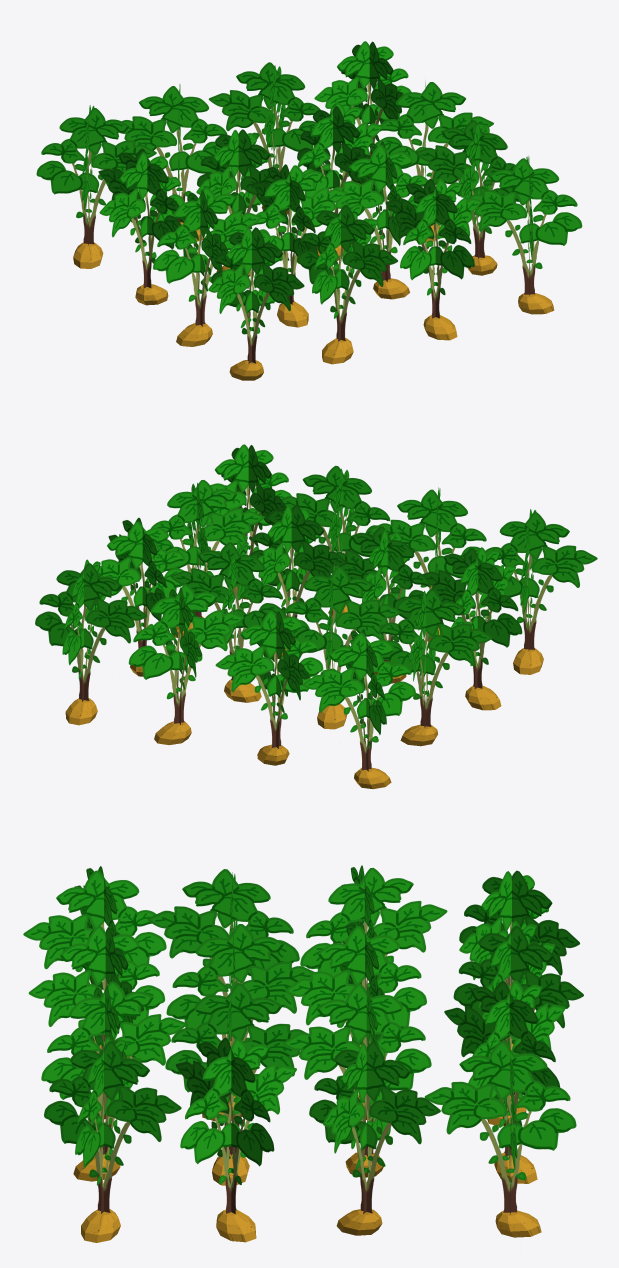
Rendered from potato-stage3.glb.
The picture shows the model from 3 angles, top to bottom: view 1: azimuth 30°, elevation 25°; view 2: azimuth 150°, elevation 25°; view 3: azimuth 270°, elevation 25°; orthographic projection. The views are drawn at different scales.
Parts seen in each view (by area): view 1: Potatoe_F3.001; view 2: Potatoe_F3.001; view 3: Potatoe_F3.001.
Boxes of the visible parts, x1,y1,x2,y2 form: Potatoe_F3.001: [36, 41, 582, 380]; Potatoe_F3.001: [35, 444, 597, 789]; Potatoe_F3.001: [23, 865, 583, 1242].
Size of the model in its own units: 2.4 by 0.844 by 2.38.
1 material, 1 textured.
